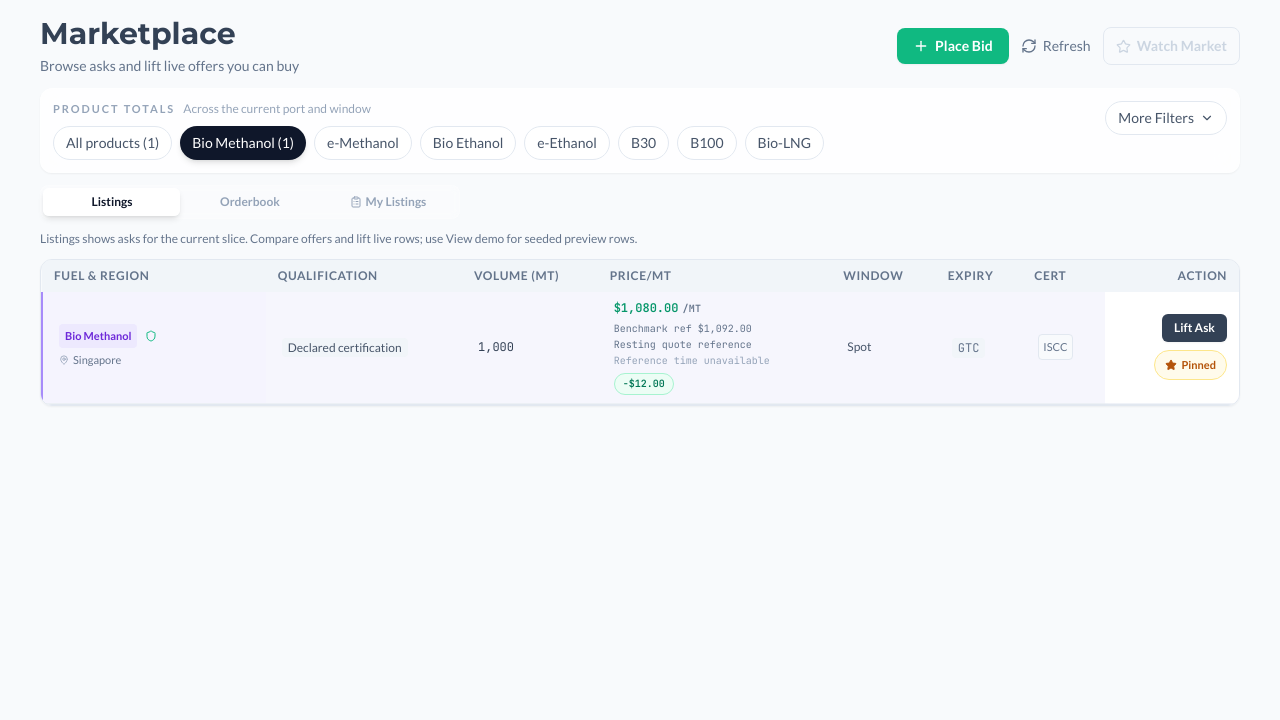
it: Marketplace green fuels surface › does not show orderbook depth for an inexact slice: missing port
Step 1. Click the button "Orderbook" → (250, 202), box [181, 188, 319, 216]
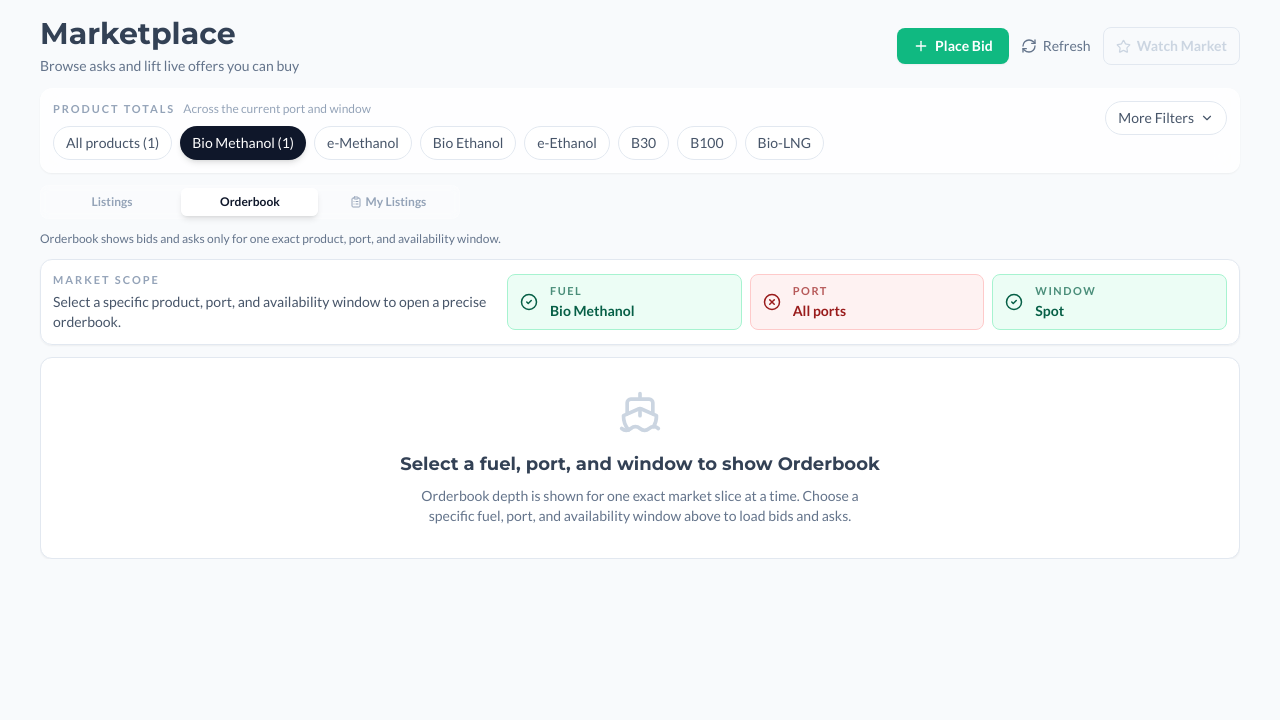
Expected: the heading "Select a fuel, port, and window to show Orderbook" is shown, [400, 450, 880, 478]
Expected: the text "choose a specific fuel, port, and availability window above" is shown, [421, 487, 859, 524]
Expected: the text "All ports" is shown, [793, 301, 846, 321]
